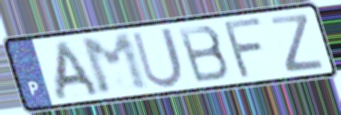A: (53, 39, 103, 103)
B: (175, 23, 233, 86)
F: (222, 15, 268, 82)
M: (77, 30, 154, 98)
U: (129, 24, 186, 91)
Z: (268, 12, 327, 75)
